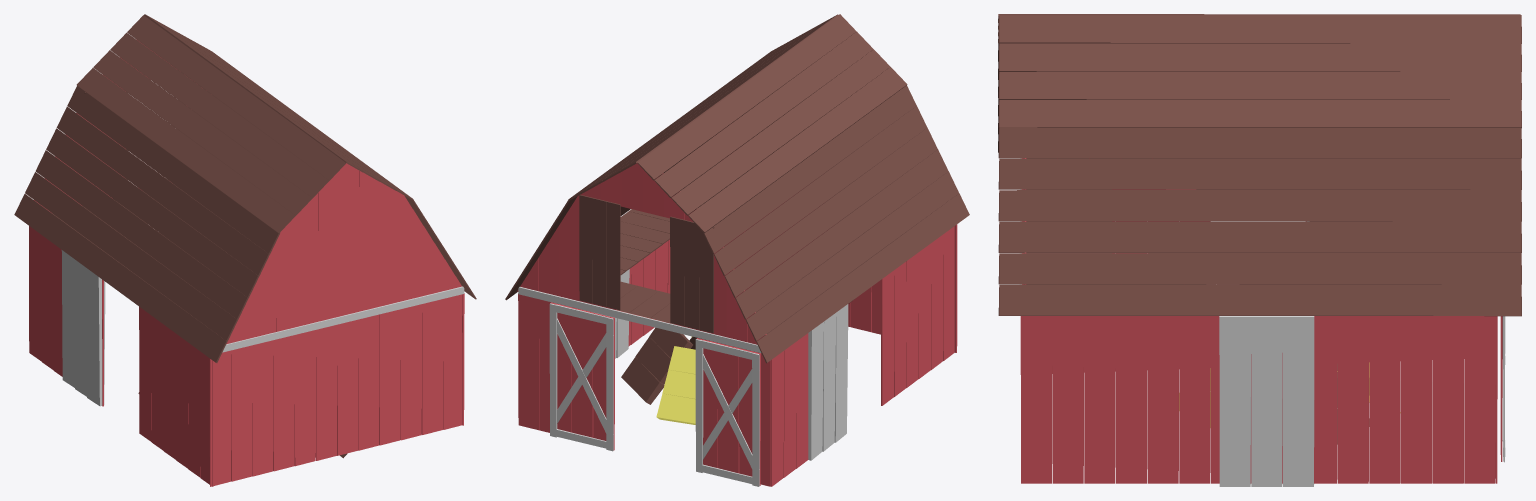
Rendered from Ambar2.fbx.
3 renders of one model, left to right at view 1: azimuth 30°, elevation 25°; view 2: azimuth 150°, elevation 25°; view 3: azimuth 270°, elevation 25°, orthographic. The views are drawn at different scales.
Visible parts, largest first — view 1: Cube.005, Cube.002, Cube.009, Cube.001, Cube.023, Cube.032; view 2: Cube.005, Cube.001, Cube.013, Cube.015, Cube.006, Cube.023, Cube.033, Cube.022, Cube.003, Cube.029, Cube.028, Cube.008 (+6 smaller); view 3: Cube.005, Cube, Cube.021, Cube.015.
Part boxes in pixels (x1,y1,x2,y2): Cube.005: (14,14,476,362); Cube.002: (209,293,464,486); Cube.009: (226,163,461,344); Cube.001: (29,226,213,486); Cube.023: (61,250,105,406); Cube.032: (222,286,464,352); Cube.005: (505,14,969,363); Cube.001: (771,226,954,486); Cube.013: (695,338,760,486); Cube.015: (549,302,614,451); Cube.006: (517,163,766,344); Cube.023: (808,304,848,460); Cube.033: (670,216,714,333); Cube.022: (579,194,620,310); Cube.003: (518,293,580,432); Cube.029: (621,327,692,404); Cube.028: (656,346,695,424); Cube.008: (620,166,742,274); Cube.005: (998,14,1521,316); Cube: (1020,316,1495,483); Cube.021: (1219,316,1314,486); Cube.015: (1500,316,1505,462).
Size of the model in its own units: 2504 by 2862 by 3356.
